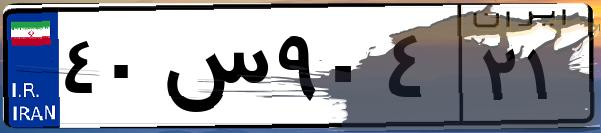0: (330, 28, 385, 110), (110, 28, 158, 98)
1: (525, 38, 570, 115)
2: (475, 38, 525, 113)
4: (385, 28, 445, 110), (57, 26, 110, 100)
9: (270, 28, 330, 110)
س: (158, 20, 270, 120)
